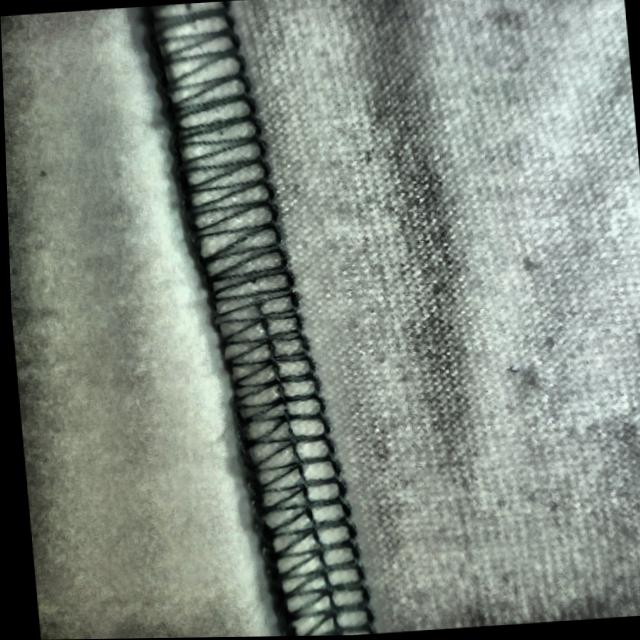Stitch: (164, 104, 342, 520)
